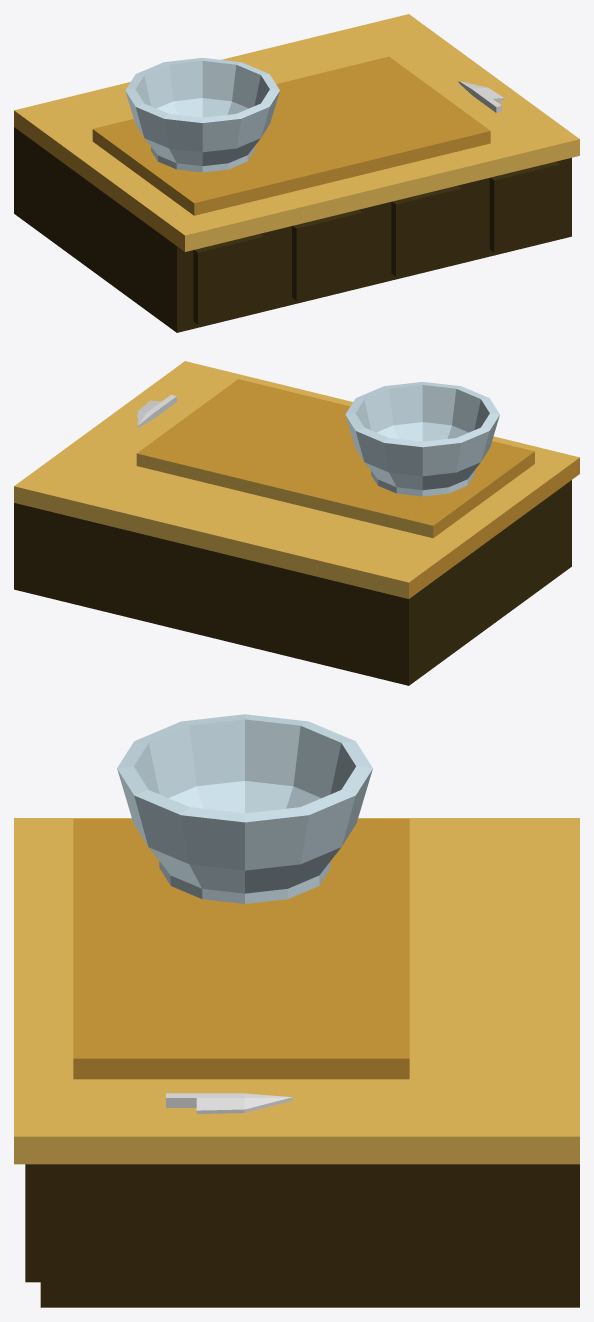
File: Chopping Station.fbx
3 renders of one model, top to bottom at view 1: azimuth 30°, elevation 25°; view 2: azimuth 150°, elevation 25°; view 3: azimuth 270°, elevation 25°, orthographic. The views are drawn at different scales.
Parts seen in each view (by area): view 1: Chopping Station, Knife; view 2: Chopping Station, Knife; view 3: Chopping Station, Knife.
Part boxes in pixels (x1=…): Chopping Station: x1=14, y1=14, x2=579, y2=332; Knife: x1=458, y1=81, x2=504, y2=112; Chopping Station: x1=14, y1=361, x2=579, y2=685; Knife: x1=137, y1=395, x2=176, y2=427; Chopping Station: x1=14, y1=714, x2=579, y2=1307; Knife: x1=166, y1=1093, x2=292, y2=1113.
Bounding box in the file's own units: 800 × 343 × 600.
Materials: 1 (1 with a texture image).
